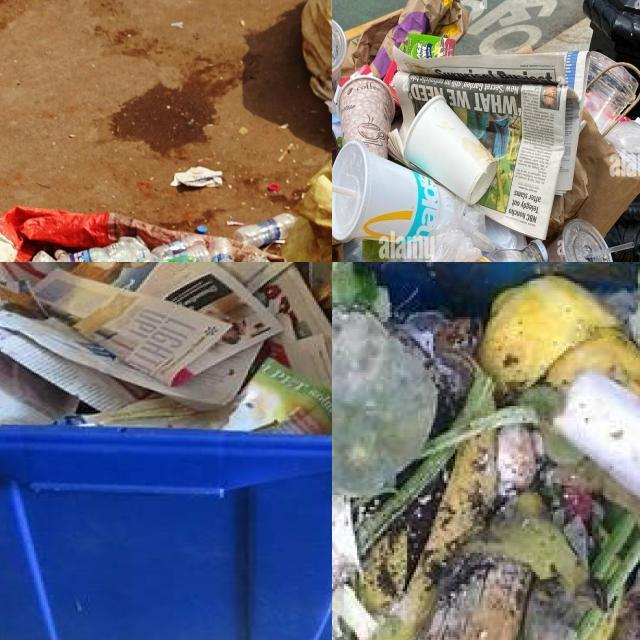Disposable: (332, 141, 466, 241), (404, 96, 497, 204), (339, 75, 395, 159), (585, 66, 639, 132), (547, 219, 613, 262), (605, 120, 640, 176), (588, 51, 614, 82)
Garbage: (332, 0, 640, 262), (0, 262, 332, 434)
Plastic_Bag: (332, 262, 640, 640), (332, 310, 437, 496), (408, 199, 497, 262)
Plastic_Straw: (585, 242, 635, 258), (332, 184, 357, 197)
Plastic_bottle: (151, 234, 205, 259), (58, 247, 111, 262), (209, 237, 233, 262)
Tetrapack: (405, 32, 455, 59)
